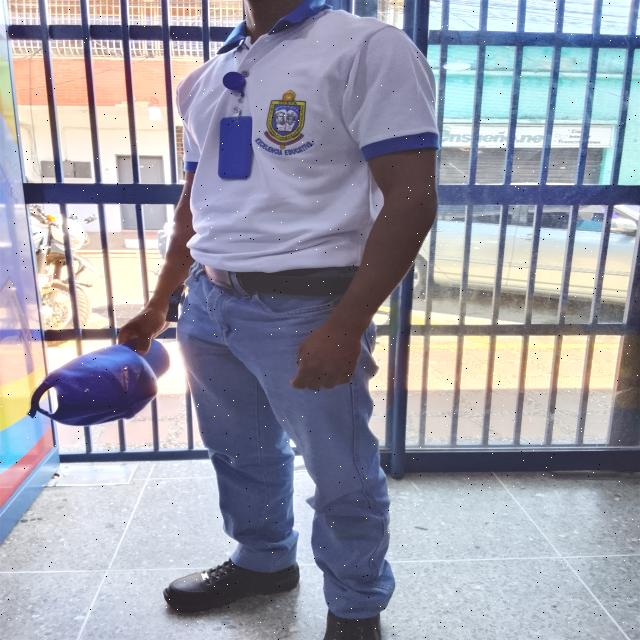carnet: (218, 116, 253, 179)
uniforme_superior: (175, 0, 442, 273)
